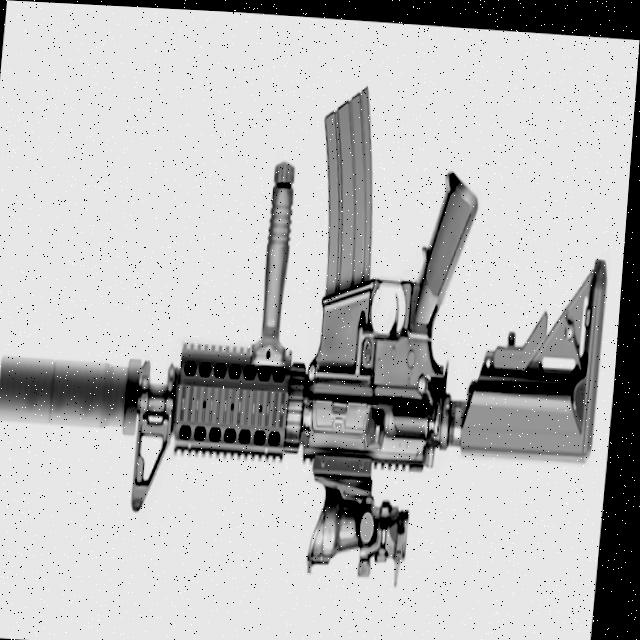firearm: (0, 57, 625, 599)
